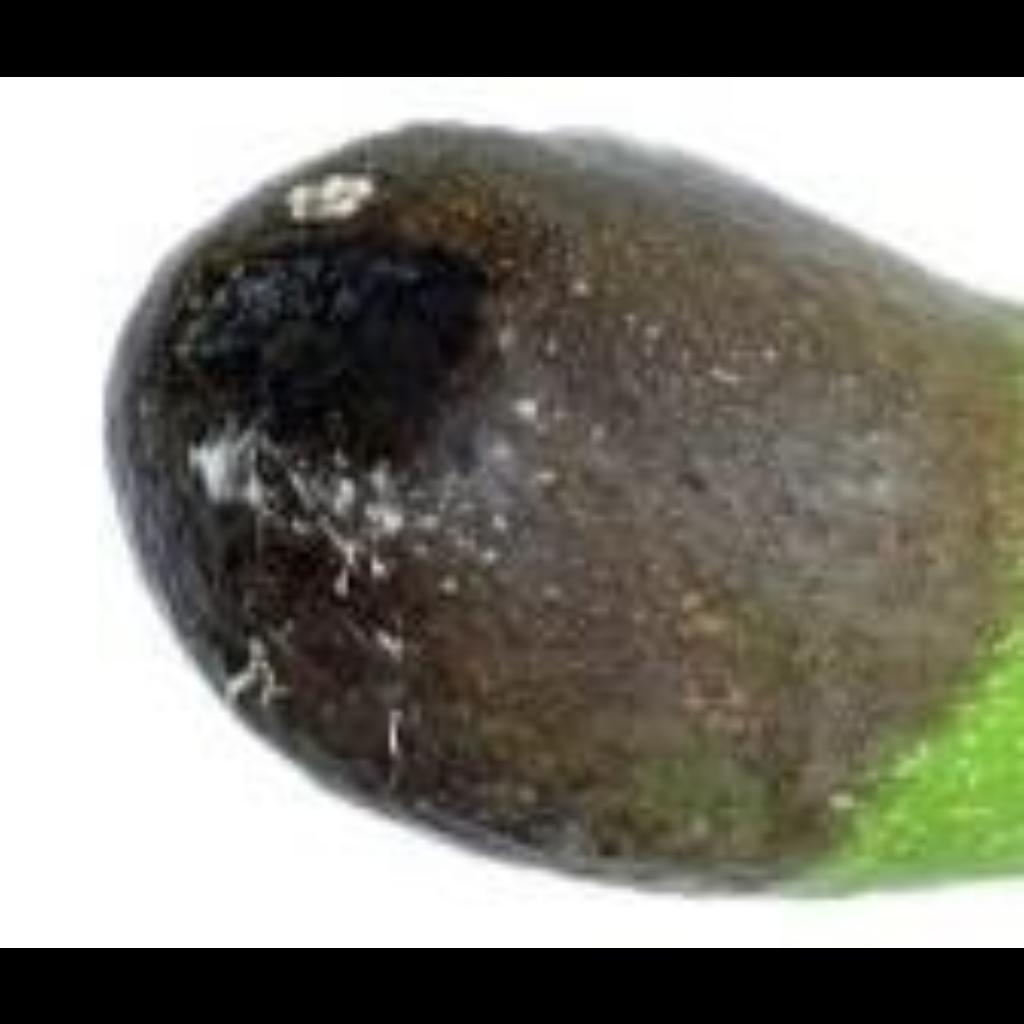Anthracnose: (149, 162, 929, 838)
